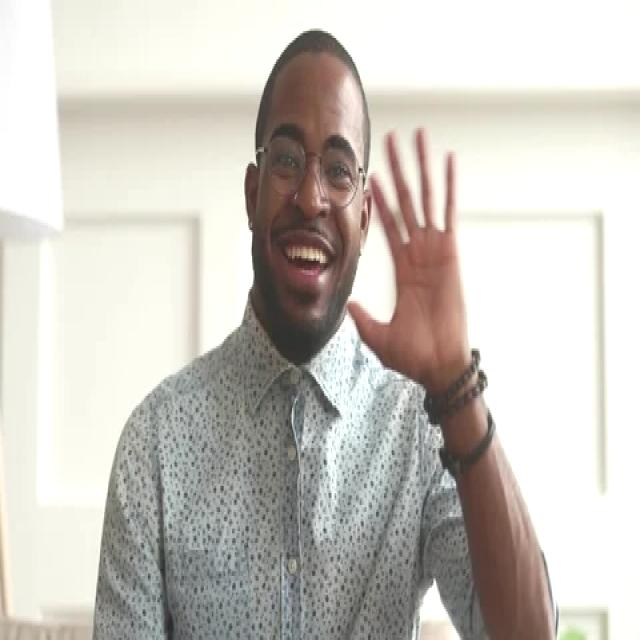Hand: (343, 114, 486, 400)
